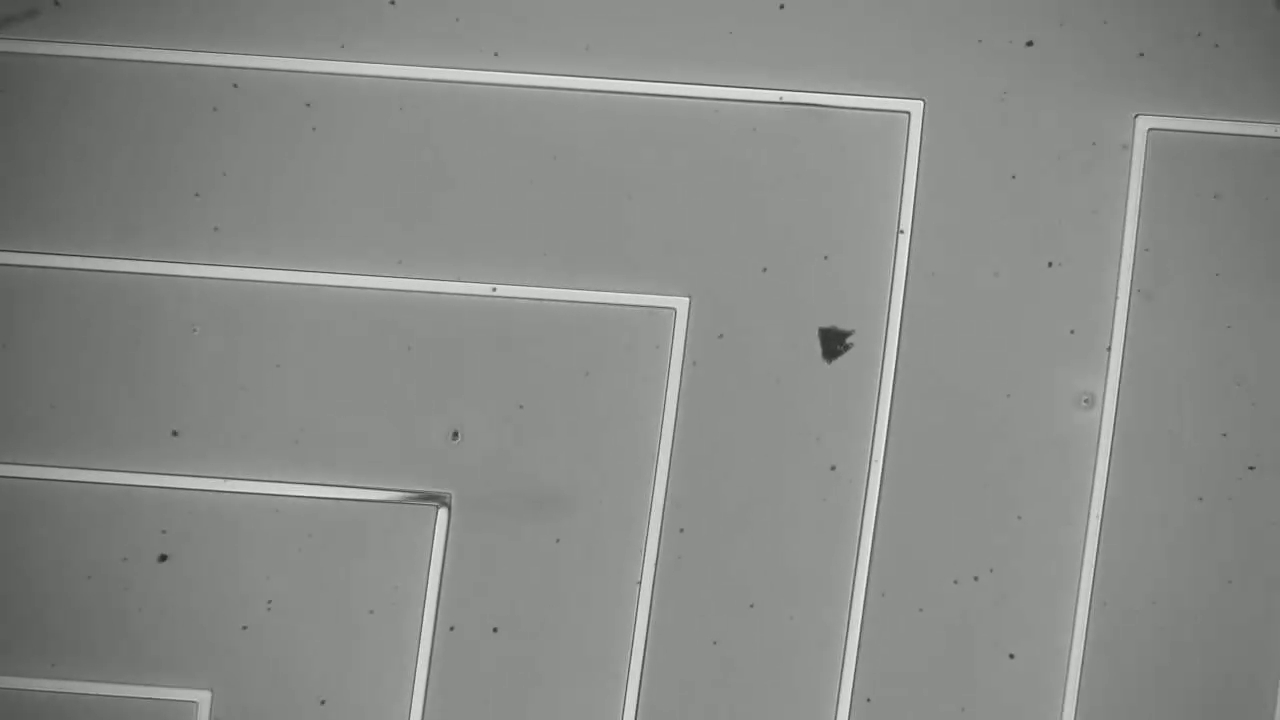gray_line: (383, 479, 463, 517)
